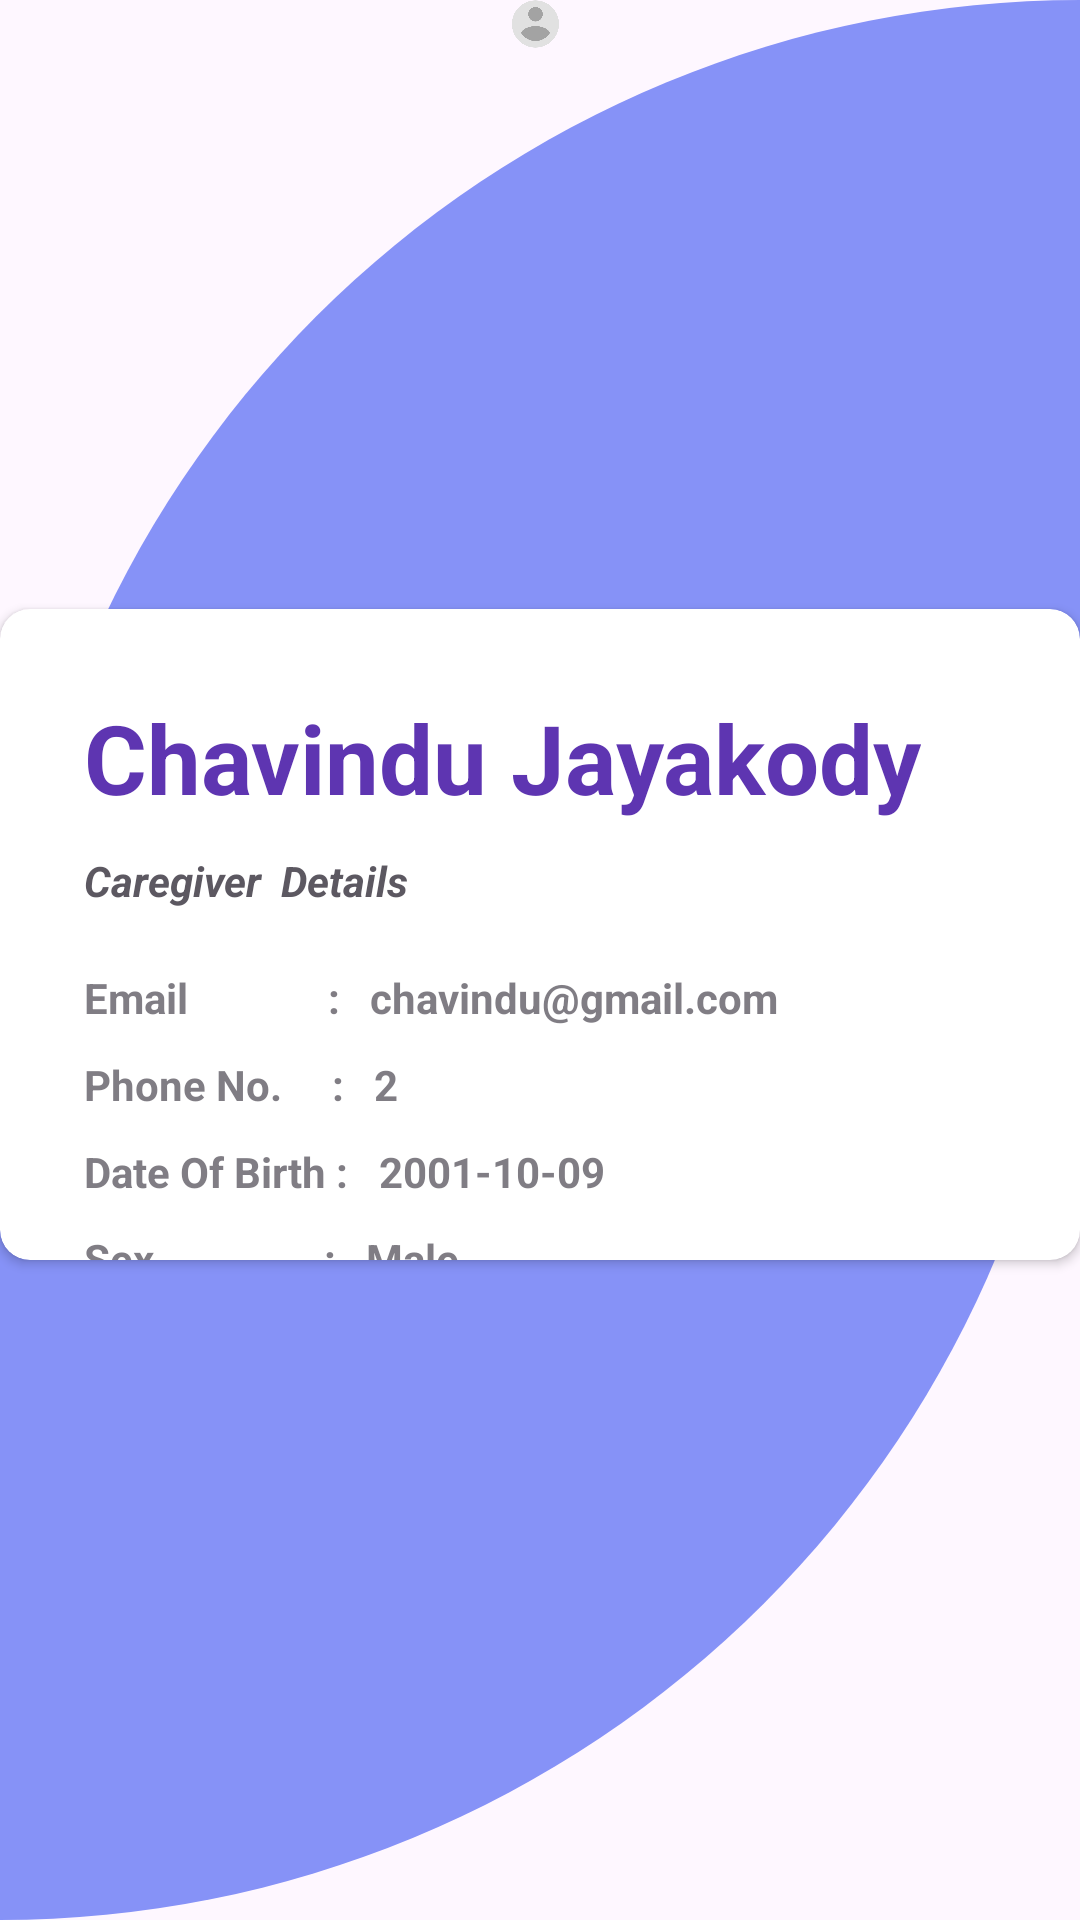

Screen size 1080*1920. Icon name, then its box in pixels as [x1,y1,x2,y2]:
user: [512,0,559,48]
